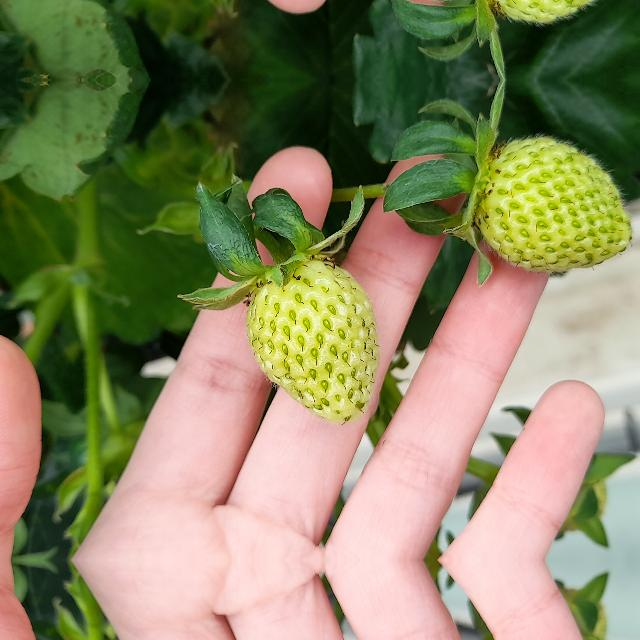Health_25: (444, 134, 632, 272), (246, 253, 380, 424)
